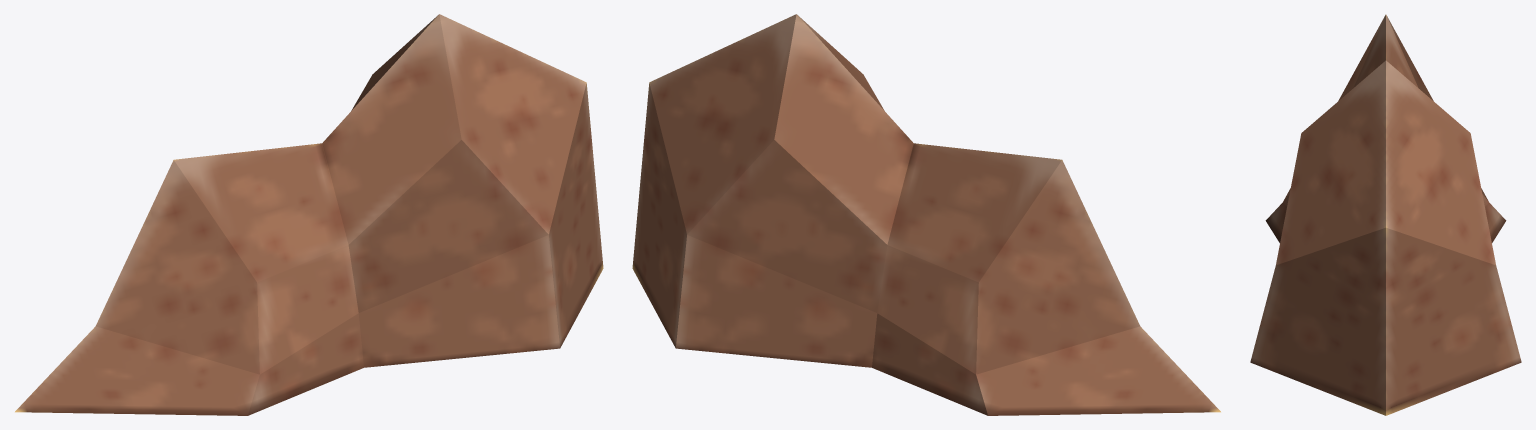
The model's file is Rock_3.fbx.
3 renders of one model, left to right at view 1: azimuth 30°, elevation 25°; view 2: azimuth 150°, elevation 25°; view 3: azimuth 270°, elevation 25°, orthographic. The views are drawn at different scales.
Visible parts, largest first — view 1: Rock_3; view 2: Rock_3; view 3: Rock_3.
Part boxes in pixels (x1,y1,x2,y2): Rock_3: (15,14,603,415); Rock_3: (632,14,1220,415); Rock_3: (1250,14,1521,415).
Size of the model in its own units: 343 by 164 by 144.
